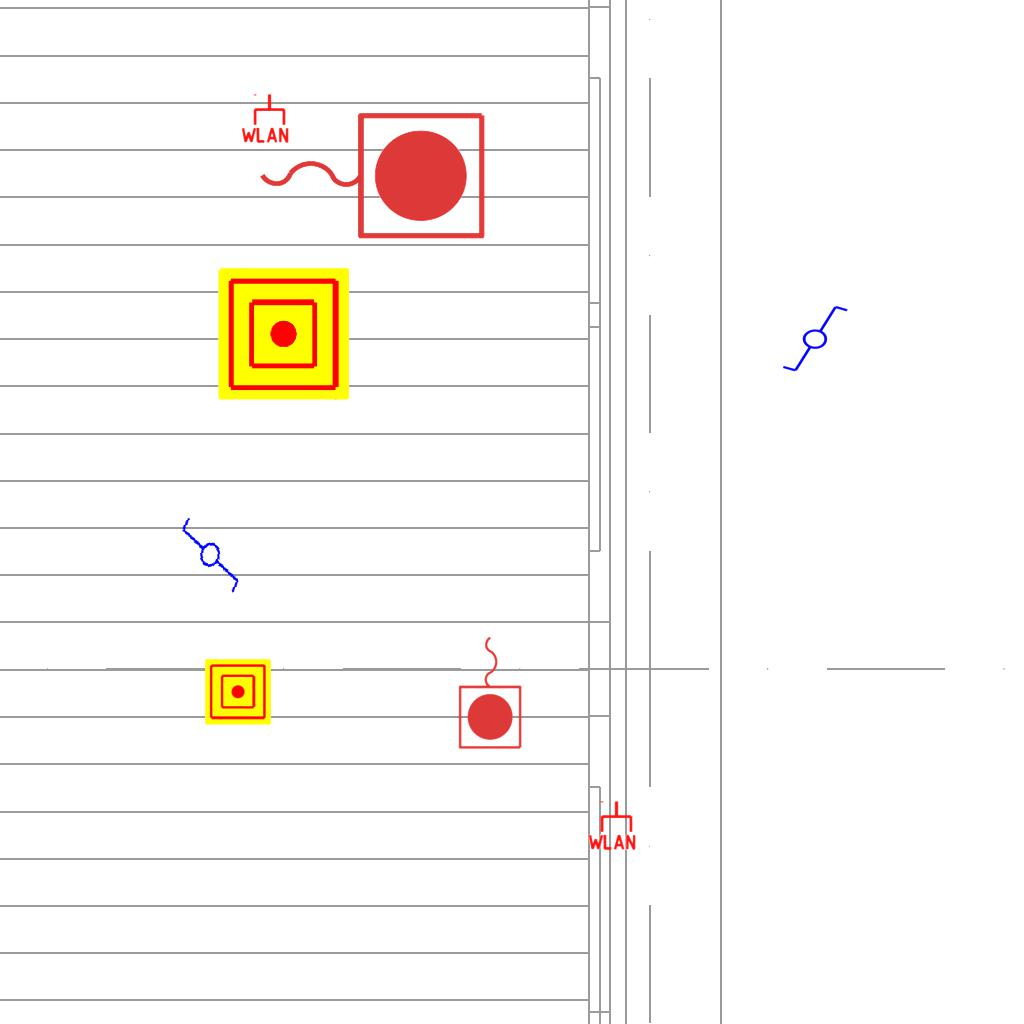NAM-Nichtautomatischer_Melder: (218, 268, 350, 400), (205, 659, 271, 725)
WLAN: (239, 92, 291, 144), (586, 799, 638, 851)
Wechselschalter: (169, 505, 255, 597), (772, 302, 850, 374)
Zugtaster: (249, 102, 493, 246), (455, 631, 527, 753)
